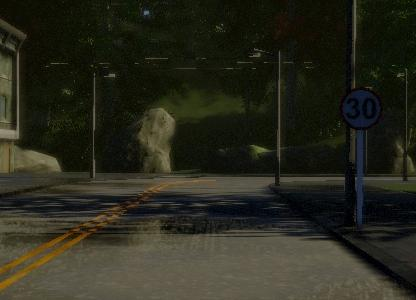Speed_30: (338, 83, 387, 134)
